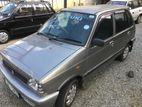car: (2, 7, 139, 107), (2, 3, 41, 42)
